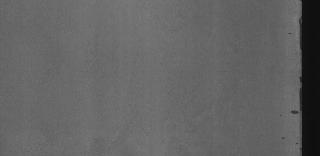oil spot: (296, 76, 302, 108), (298, 19, 302, 53), (290, 106, 300, 118)
